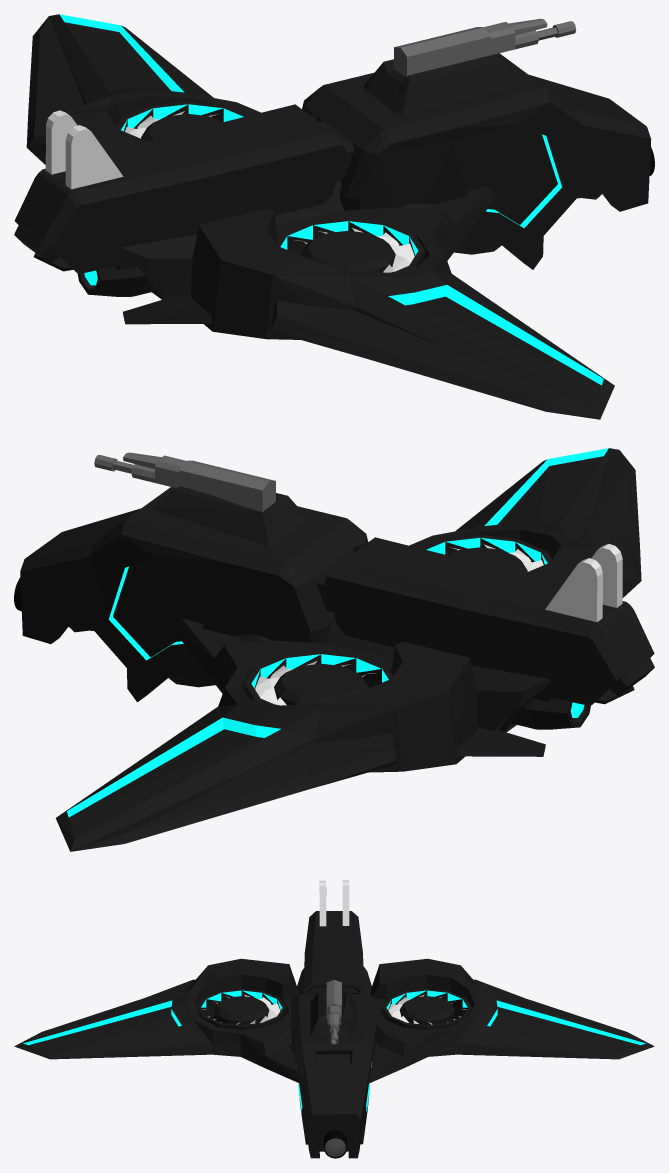
The model's file is AirDroneBlend.glb.
The picture shows the model from 3 angles, top to bottom: view 1: azimuth 30°, elevation 25°; view 2: azimuth 150°, elevation 25°; view 3: azimuth 270°, elevation 25°; orthographic projection. The views are drawn at different scales.
Visible parts, largest first — view 1: Mesh_0814.001, Drone, Drone.001, Mesh_0822.001, propller 1; view 2: Drone, Mesh_0814.001, Drone.001, Mesh_0822.001, Propllier 2; view 3: Drone, Mesh_0814.001, Drone.001, Mesh_0822.001, Circle.001.
Boxes of the visible parts, box(x1,y1,x2,y2) form: Mesh_0814.001: box(14, 53, 651, 299); Drone: box(26, 14, 614, 419); Drone.001: box(394, 18, 576, 76); Mesh_0822.001: box(45, 110, 123, 189); propller 1: box(295, 228, 414, 272); Drone: box(55, 448, 641, 851); Mesh_0814.001: box(20, 486, 654, 732); Drone.001: box(94, 452, 275, 511); Mesh_0822.001: box(545, 544, 622, 622); Propllier 2: box(255, 661, 376, 705); Drone: box(14, 958, 654, 1083); Mesh_0814.001: box(291, 911, 376, 1158); Drone.001: box(326, 980, 341, 1044); Mesh_0822.001: box(319, 880, 349, 926); Circle.001: box(324, 1130, 346, 1158).
Size of what is drawn, in the model's own units: 4.07 by 1.5 by 6.26.
